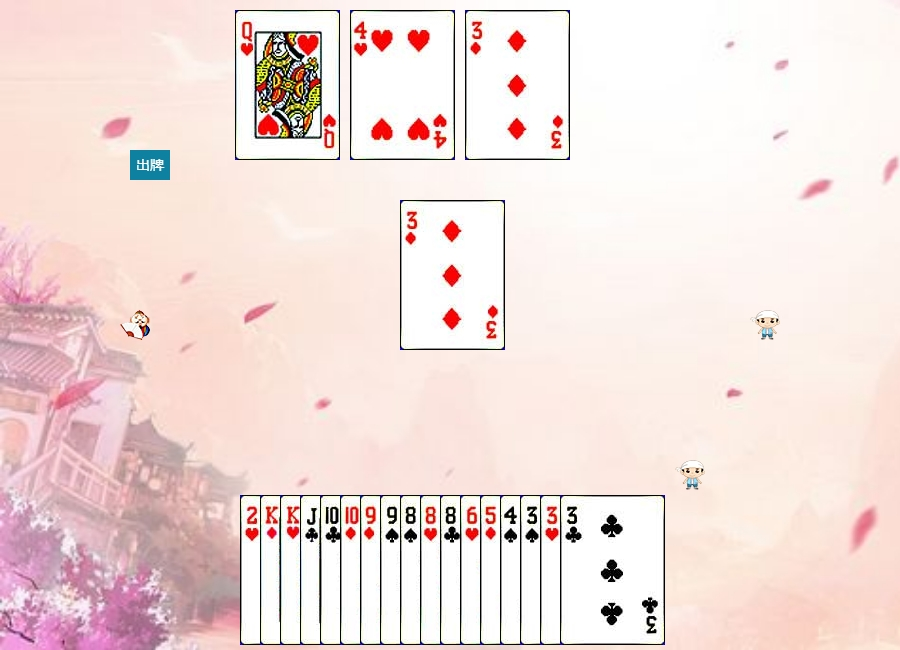10~1: (340, 495, 445, 645)
10~2: (320, 495, 425, 645)
11~2: (300, 495, 405, 645)
12~3: (235, 10, 340, 160)
13~1: (260, 495, 365, 645)
13~3: (280, 495, 385, 645)
15~3: (240, 495, 345, 645)
3~1: (465, 10, 570, 160), (400, 200, 505, 350)
3~2: (560, 495, 665, 645)
3~3: (540, 495, 645, 645)
3~4: (520, 495, 625, 645)
4~3: (350, 10, 455, 160)
4~4: (500, 495, 605, 645)
5~1: (480, 495, 585, 645)
6~3: (460, 495, 565, 645)
8~2: (440, 495, 545, 645)
8~3: (420, 495, 525, 645)
8~4: (400, 495, 505, 645)
9~1: (360, 495, 465, 645)
9~4: (380, 495, 485, 645)
